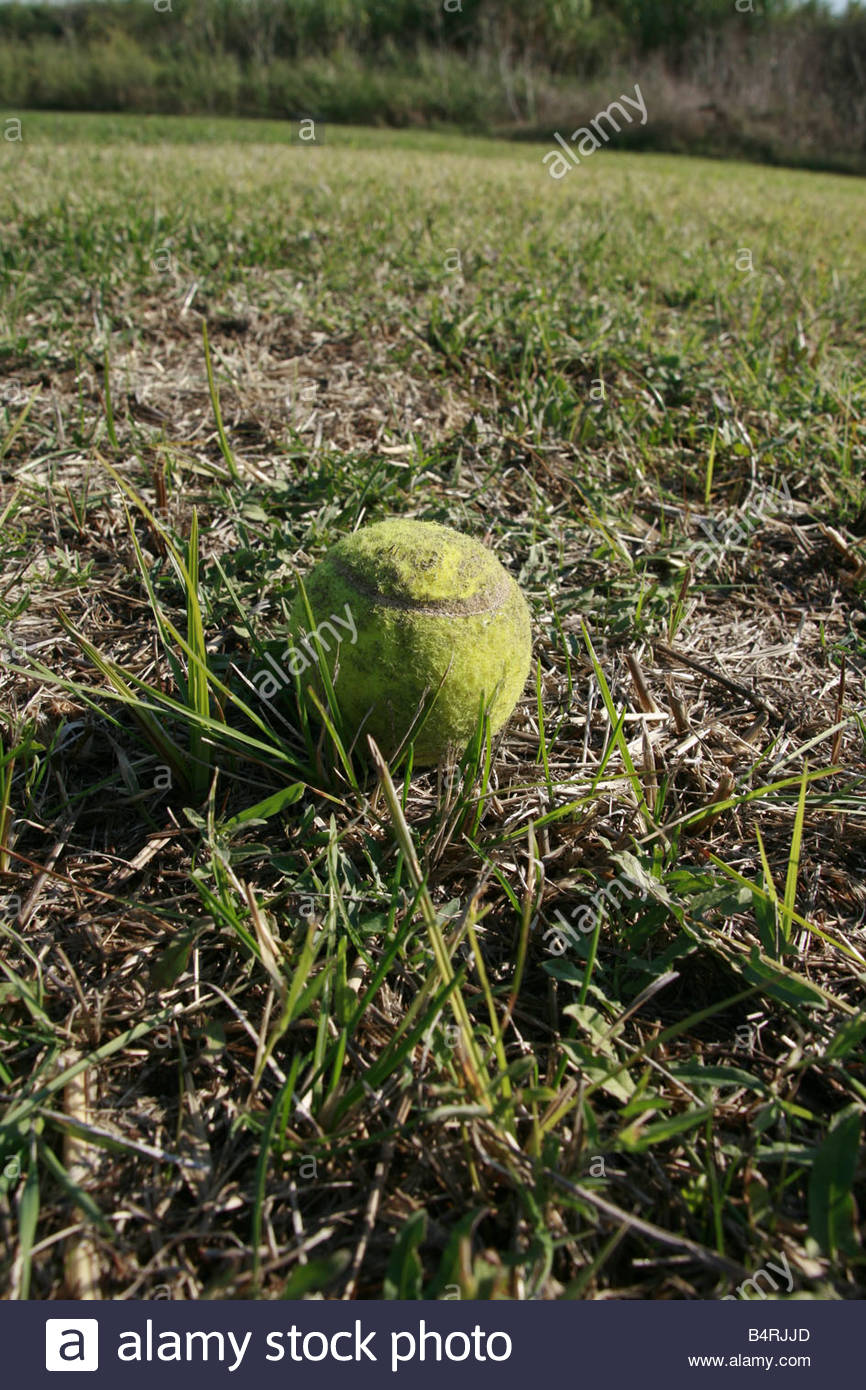tennis_ball: (271, 523, 538, 776)
